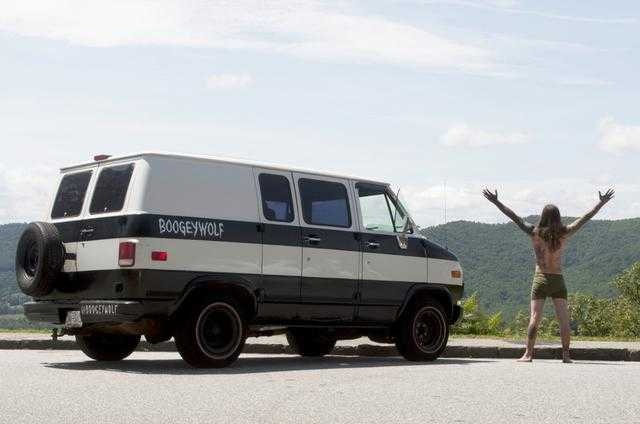van: (13, 151, 466, 368)
